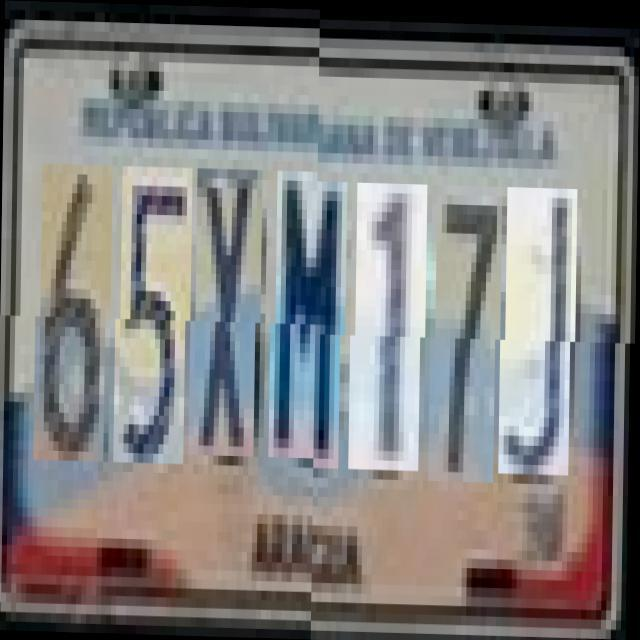1: (355, 180, 428, 468)
5: (120, 175, 193, 472)
6: (40, 173, 113, 471)
7: (435, 182, 503, 480)
J: (505, 184, 578, 472)
M: (275, 178, 348, 466)
X: (195, 176, 263, 464)
